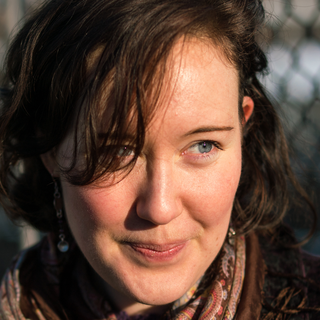eye: (182, 134, 227, 159)
